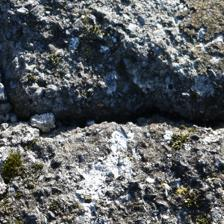Crack: (7, 81, 222, 146)
